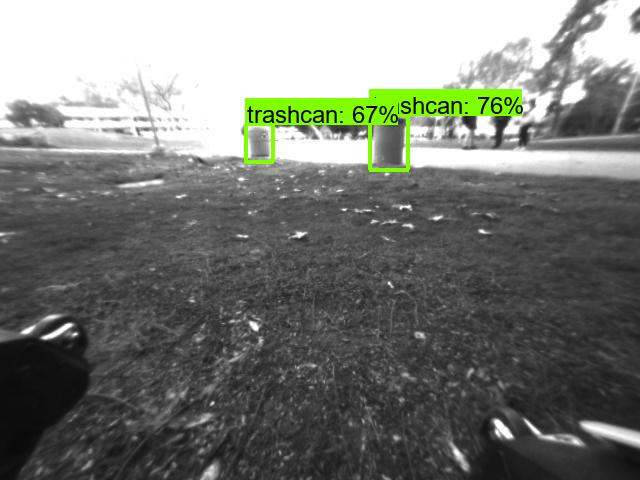trashcan: (373, 118, 406, 167), (246, 125, 274, 158)
